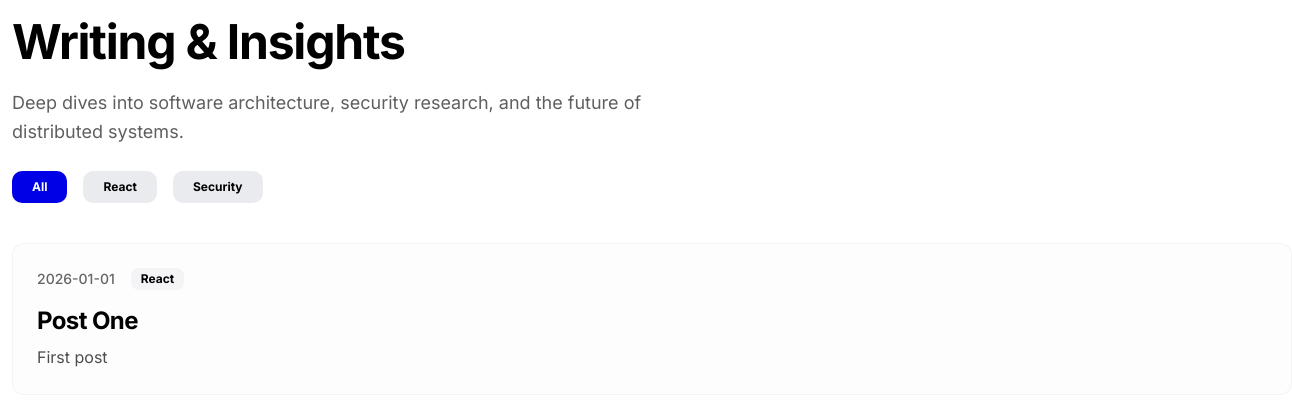
Test case: BlogList wrapper wiring › renders the exact legacy empty message with pinned classes when no article matches
Click the text "Security" at (218, 186), box [173, 170, 262, 202]
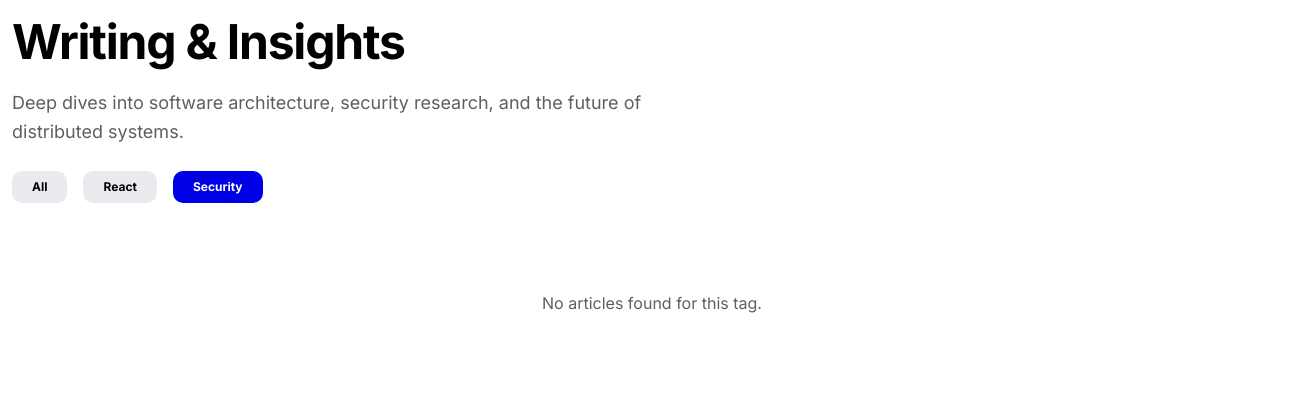
Result: the text "No articles found for this tag." is shown at [542, 292, 762, 312]
